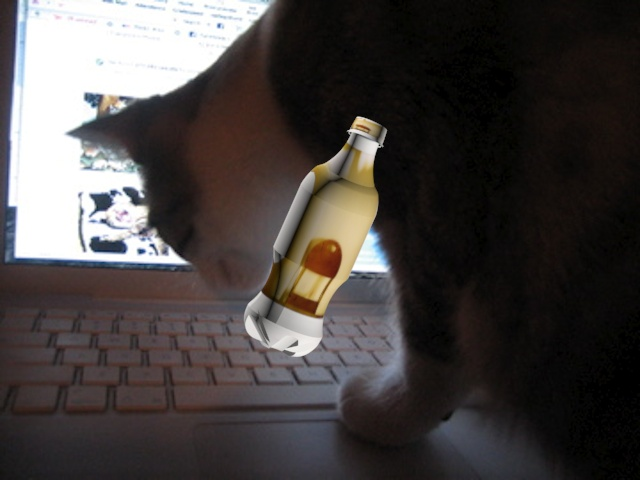bottle: (241, 112, 400, 368)
